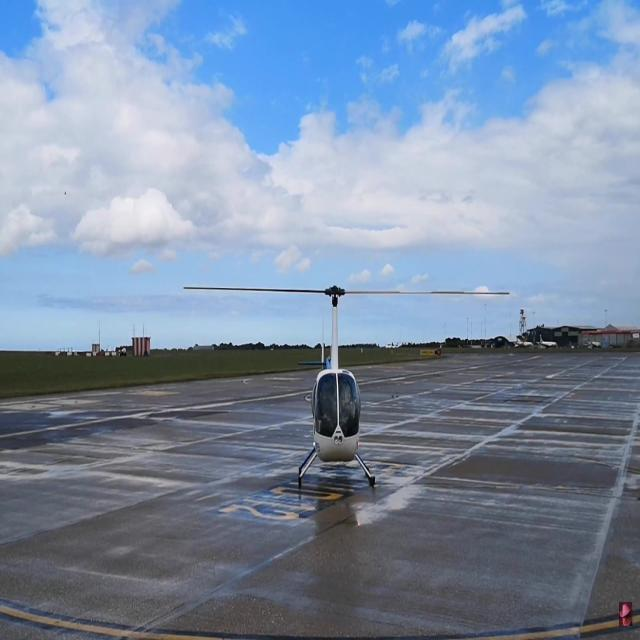CIV_HELO: (297, 284, 378, 490)
